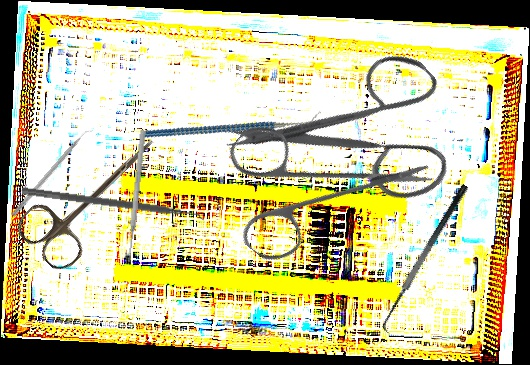Chopper: (141, 67, 322, 181), (10, 125, 97, 222)
Iris Scissors: (218, 2, 490, 273), (189, 63, 437, 311), (11, 113, 175, 277)
Pusher: (125, 129, 147, 263)
Spatula Surgical: (373, 183, 481, 336), (20, 186, 206, 226)
